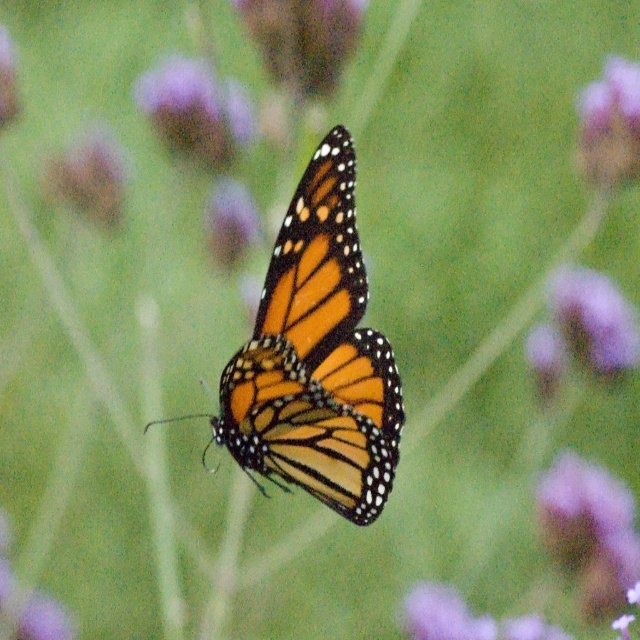Butterfly: (143, 122, 407, 525)
